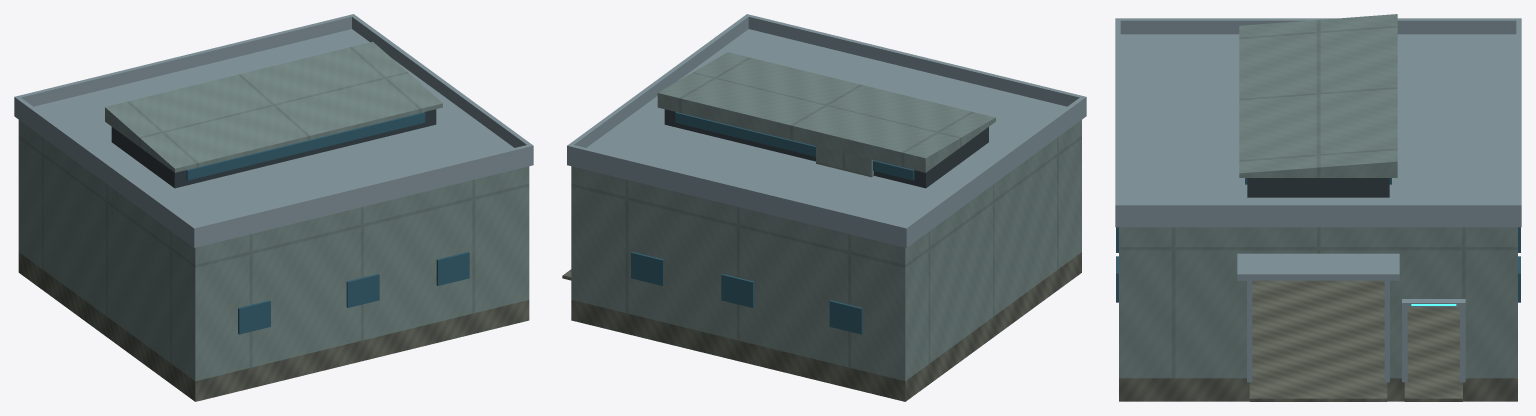
The model's file is Frontier_FieldWorkshop.glb.
3 renders of one model, left to right at view 1: azimuth 30°, elevation 25°; view 2: azimuth 150°, elevation 25°; view 3: azimuth 270°, elevation 25°, orthographic. The views are drawn at different scales.
Visible parts, largest first — view 1: Frontier_FieldWorkshop_GroundShell, Frontier_FieldWorkshop_Roof, Frontier_FieldWorkshop_RoofMonitor, Frontier_FieldWorkshop_Foundation, Frontier_FieldWorkshop_GroundWindows; view 2: Frontier_FieldWorkshop_GroundShell, Frontier_FieldWorkshop_Roof, Frontier_FieldWorkshop_RoofMonitor, Frontier_FieldWorkshop_Foundation, Frontier_FieldWorkshop_GroundWindows, Frontier_FieldWorkshop_RoofPlant; view 3: Frontier_FieldWorkshop_Roof, Frontier_FieldWorkshop_GroundShell, Frontier_FieldWorkshop_RoofMonitor, Frontier_FieldWorkshop_Foundation, Frontier_FieldWorkshop_ThresholdRamp, Frontier_FieldWorkshop_PortalFixture, Frontier_FieldWorkshop_PortalFrame, Frontier_FieldWorkshop_GroundWindows.
Boxes of the visible parts, left/top/right/bottom form: Frontier_FieldWorkshop_GroundShell: left=18, top=120, right=529, bottom=381; Frontier_FieldWorkshop_Roof: left=14, top=14, right=533, bottom=247; Frontier_FieldWorkshop_RoofMonitor: left=105, top=41, right=442, bottom=188; Frontier_FieldWorkshop_Foundation: left=18, top=252, right=529, bottom=401; Frontier_FieldWorkshop_GroundWindows: left=238, top=252, right=469, bottom=334; Frontier_FieldWorkshop_GroundShell: left=571, top=120, right=1081, bottom=381; Frontier_FieldWorkshop_Roof: left=567, top=14, right=1086, bottom=247; Frontier_FieldWorkshop_RoofMonitor: left=657, top=52, right=995, bottom=188; Frontier_FieldWorkshop_Foundation: left=571, top=252, right=1081, bottom=401; Frontier_FieldWorkshop_GroundWindows: left=631, top=252, right=862, bottom=334; Frontier_FieldWorkshop_RoofPlant: left=816, top=146, right=873, bottom=177; Frontier_FieldWorkshop_Roof: left=1115, top=18, right=1521, bottom=227; Frontier_FieldWorkshop_GroundShell: left=1119, top=227, right=1517, bottom=378; Frontier_FieldWorkshop_RoofMonitor: left=1239, top=14, right=1397, bottom=197; Frontier_FieldWorkshop_Foundation: left=1119, top=280, right=1517, bottom=401; Frontier_FieldWorkshop_ThresholdRamp: left=1249, top=378, right=1462, bottom=401; Frontier_FieldWorkshop_PortalFixture: left=1237, top=253, right=1399, bottom=280; Frontier_FieldWorkshop_PortalFrame: left=1247, top=280, right=1465, bottom=382; Frontier_FieldWorkshop_GroundWindows: left=1116, top=227, right=1520, bottom=302.
Bounding box in the file's own units: 13.45 × 6.75 × 11.2.
Materials: 6 (2 with a texture image).
